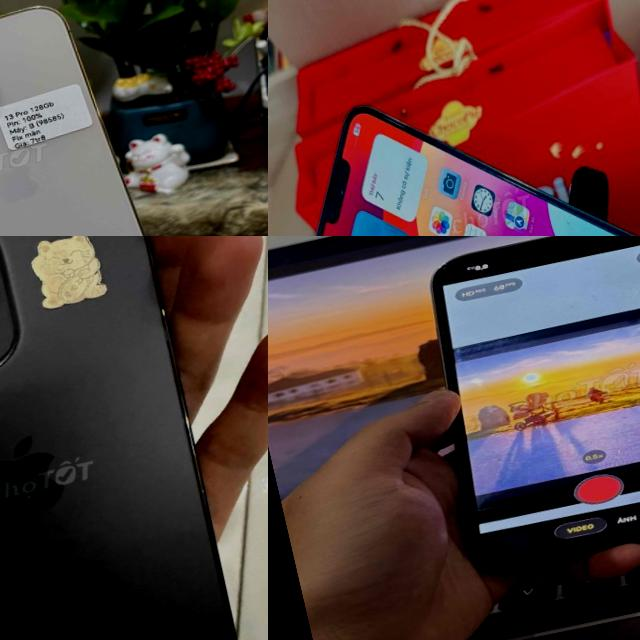gen_12_13: (388, 236, 640, 593), (275, 42, 640, 236), (0, 0, 183, 236)
gen_14: (0, 236, 268, 640)
